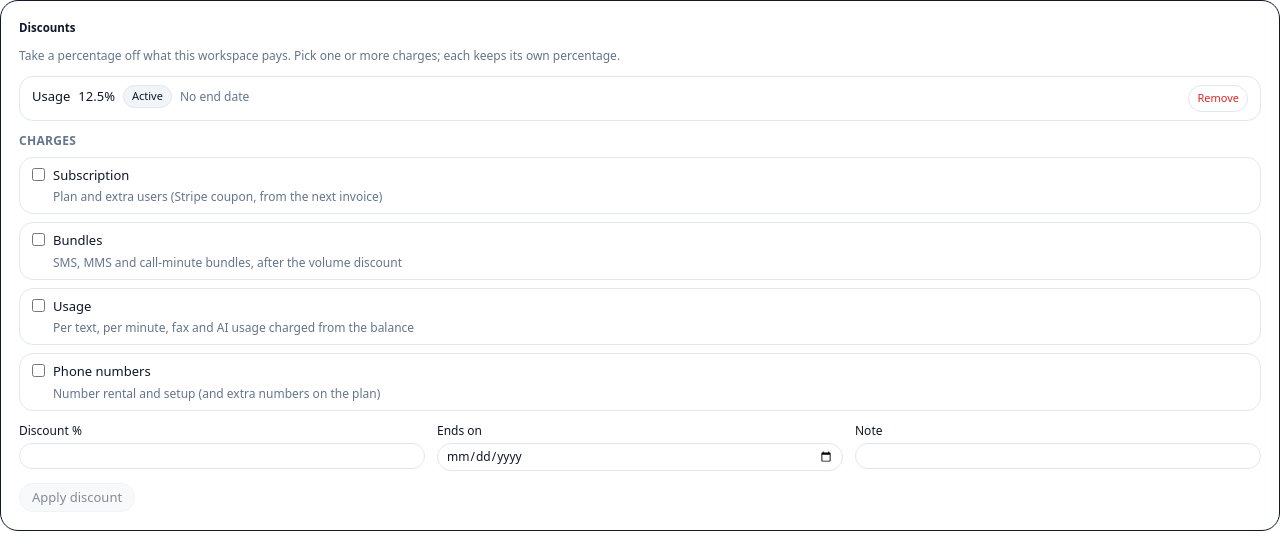
it: OrgDiscountsPanel › pre-fills the percent from an existing discount when its category is ticked
Click the checkbox labelled "Usage" at {"x": 38, "y": 305}, box [32,299,45,312]
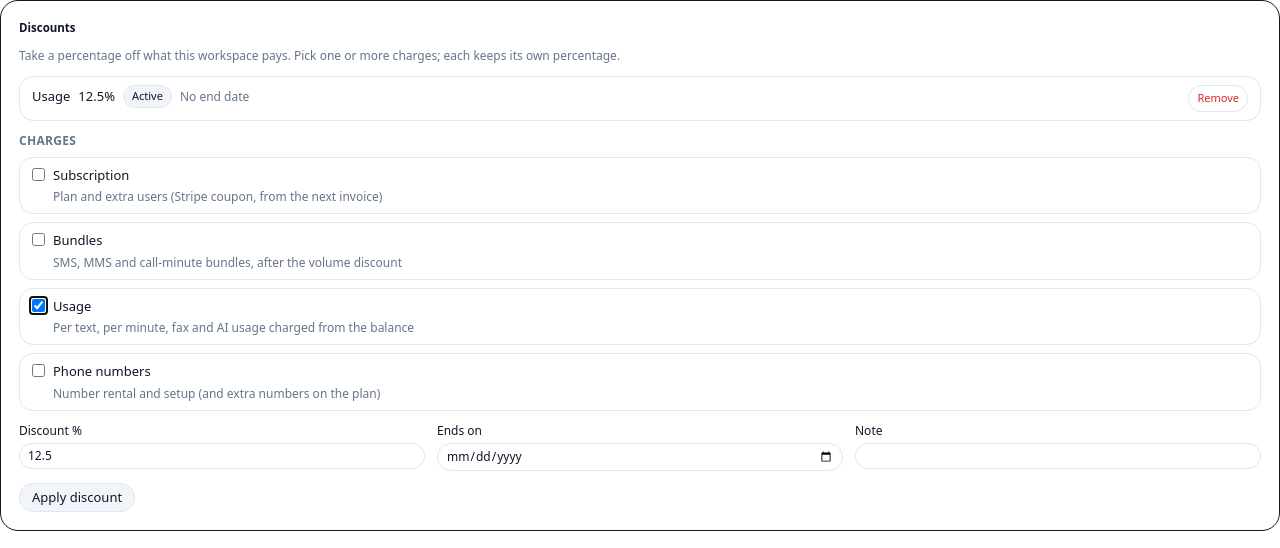
Expected: the number field labelled "Discount %" holds "12.5", [19,443,425,469]
